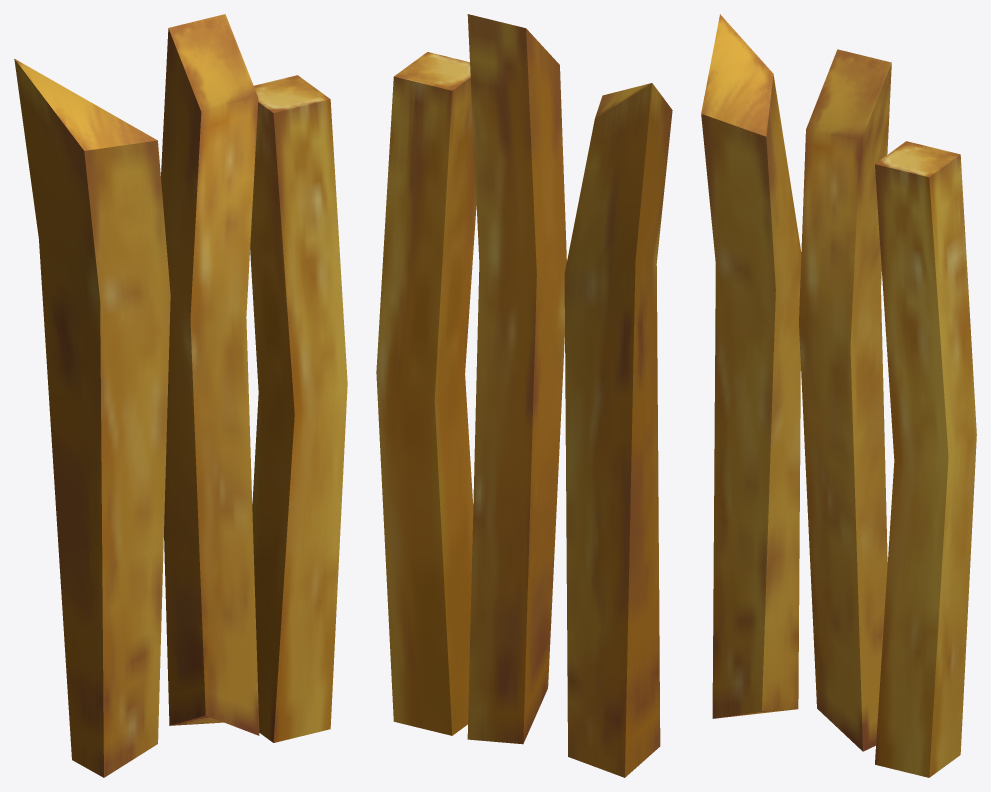
Rendered from fries3.fbx.
3 renders of one model, left to right at view 1: azimuth 30°, elevation 25°; view 2: azimuth 150°, elevation 25°; view 3: azimuth 330°, elevation 25°, orthographic. The views are drawn at different scales.
Parts seen in each view (by area): view 1: fries3; view 2: fries3; view 3: fries3.
Part boxes in pixels (box(x1,y1,x2,y2)): fries3: box(14, 14, 347, 777); fries3: box(376, 14, 672, 777); fries3: box(701, 14, 976, 777).
Bounding box in the file's own units: 8.33 × 19.68 × 2.51.
